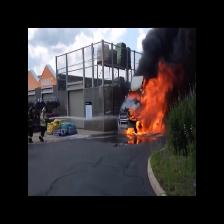fire: (138, 80, 165, 138)
smoke: (152, 27, 200, 78)
